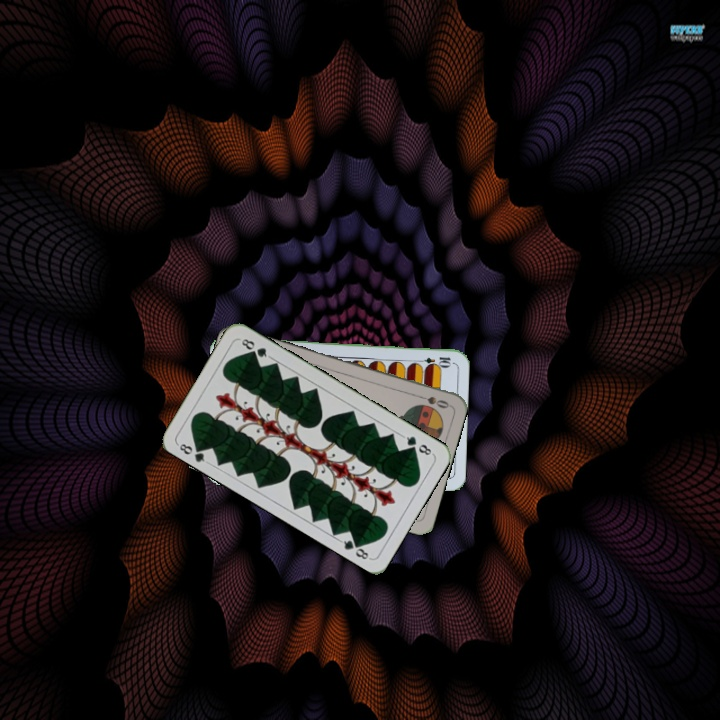E10: (413, 353, 453, 367)
G8: (174, 439, 211, 466), (399, 432, 435, 458)
SO: (412, 391, 452, 411)
